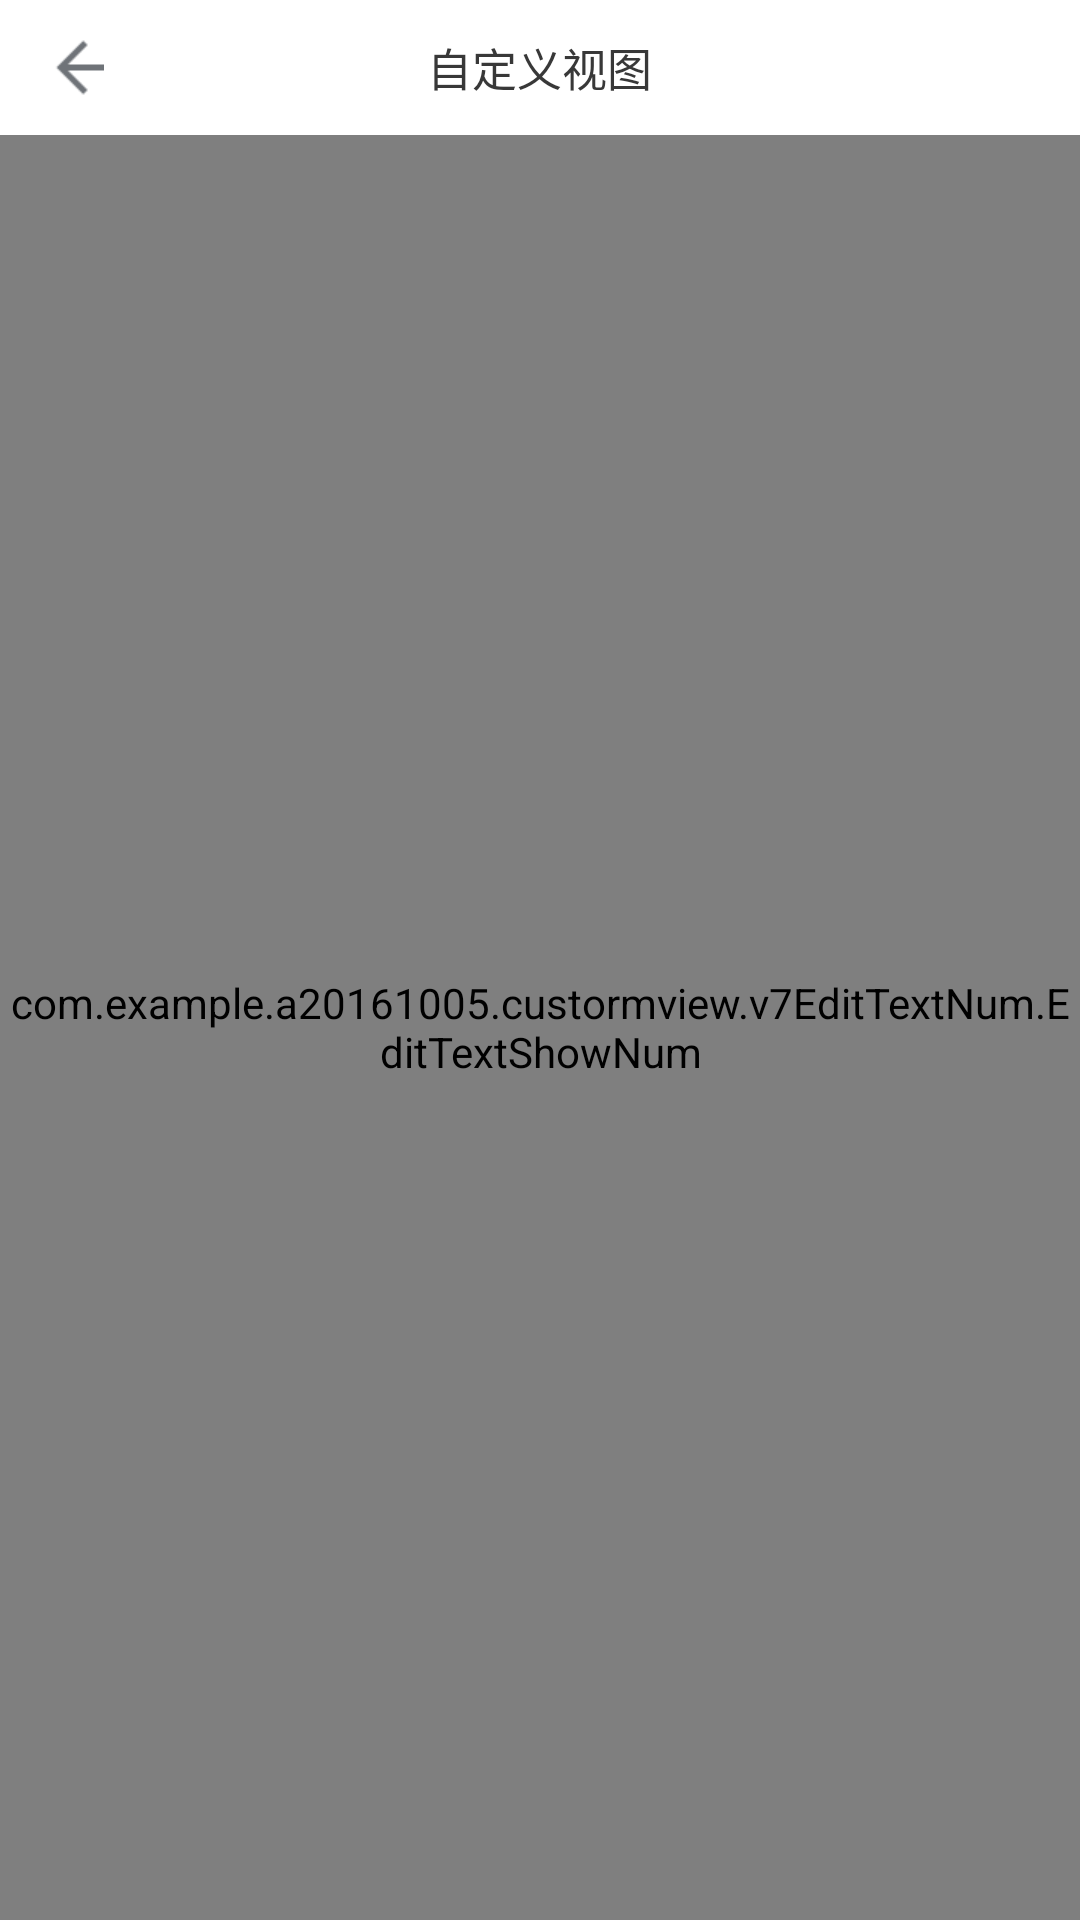

Named icons in this screenshot (1080px×1920px) and their bounding boxes, box=[x1, y1, x2, y2]:
title back: box=[56, 40, 104, 95]
